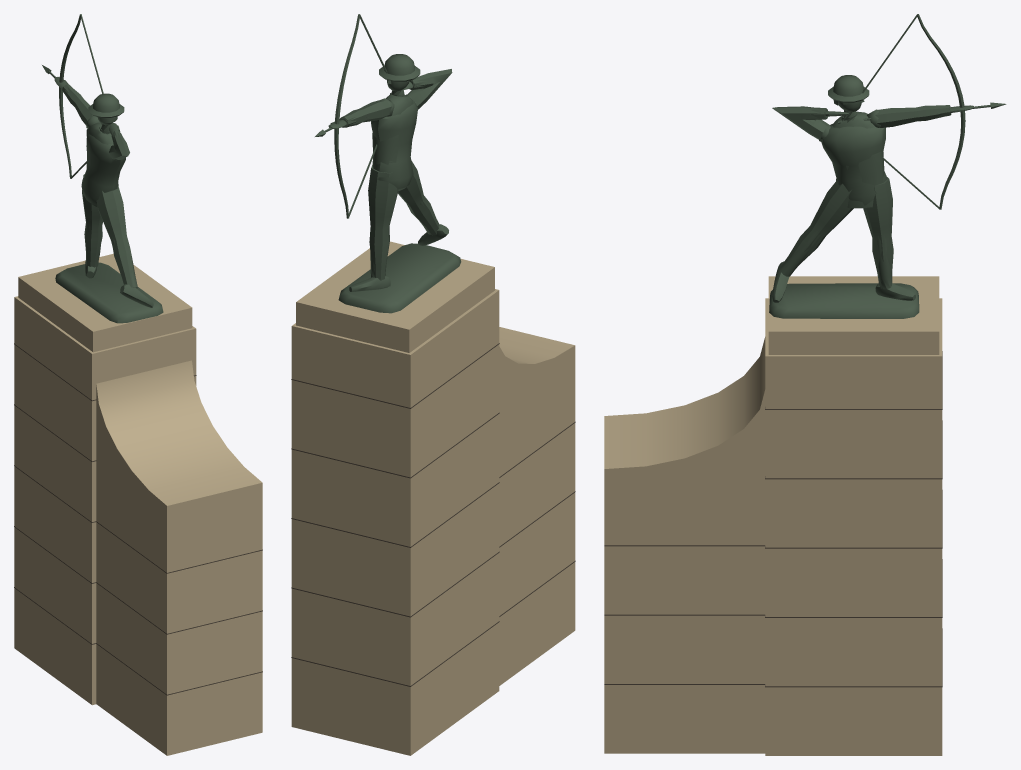
Rendered from mon_bogenschuetze.glb.
3 renders of one model, left to right at view 1: azimuth 30°, elevation 25°; view 2: azimuth 150°, elevation 25°; view 3: azimuth 270°, elevation 25°, orthographic. The views are drawn at different scales.
Visible parts, largest first — view 1: mon_bogenschuetze; view 2: mon_bogenschuetze; view 3: mon_bogenschuetze.
Part boxes in pixels (x1,y1,x2,y2): mon_bogenschuetze: (14, 14, 262, 755); mon_bogenschuetze: (291, 14, 575, 755); mon_bogenschuetze: (604, 14, 1006, 755).
Size of the model in its own units: 1.71 by 9.8 by 5.
